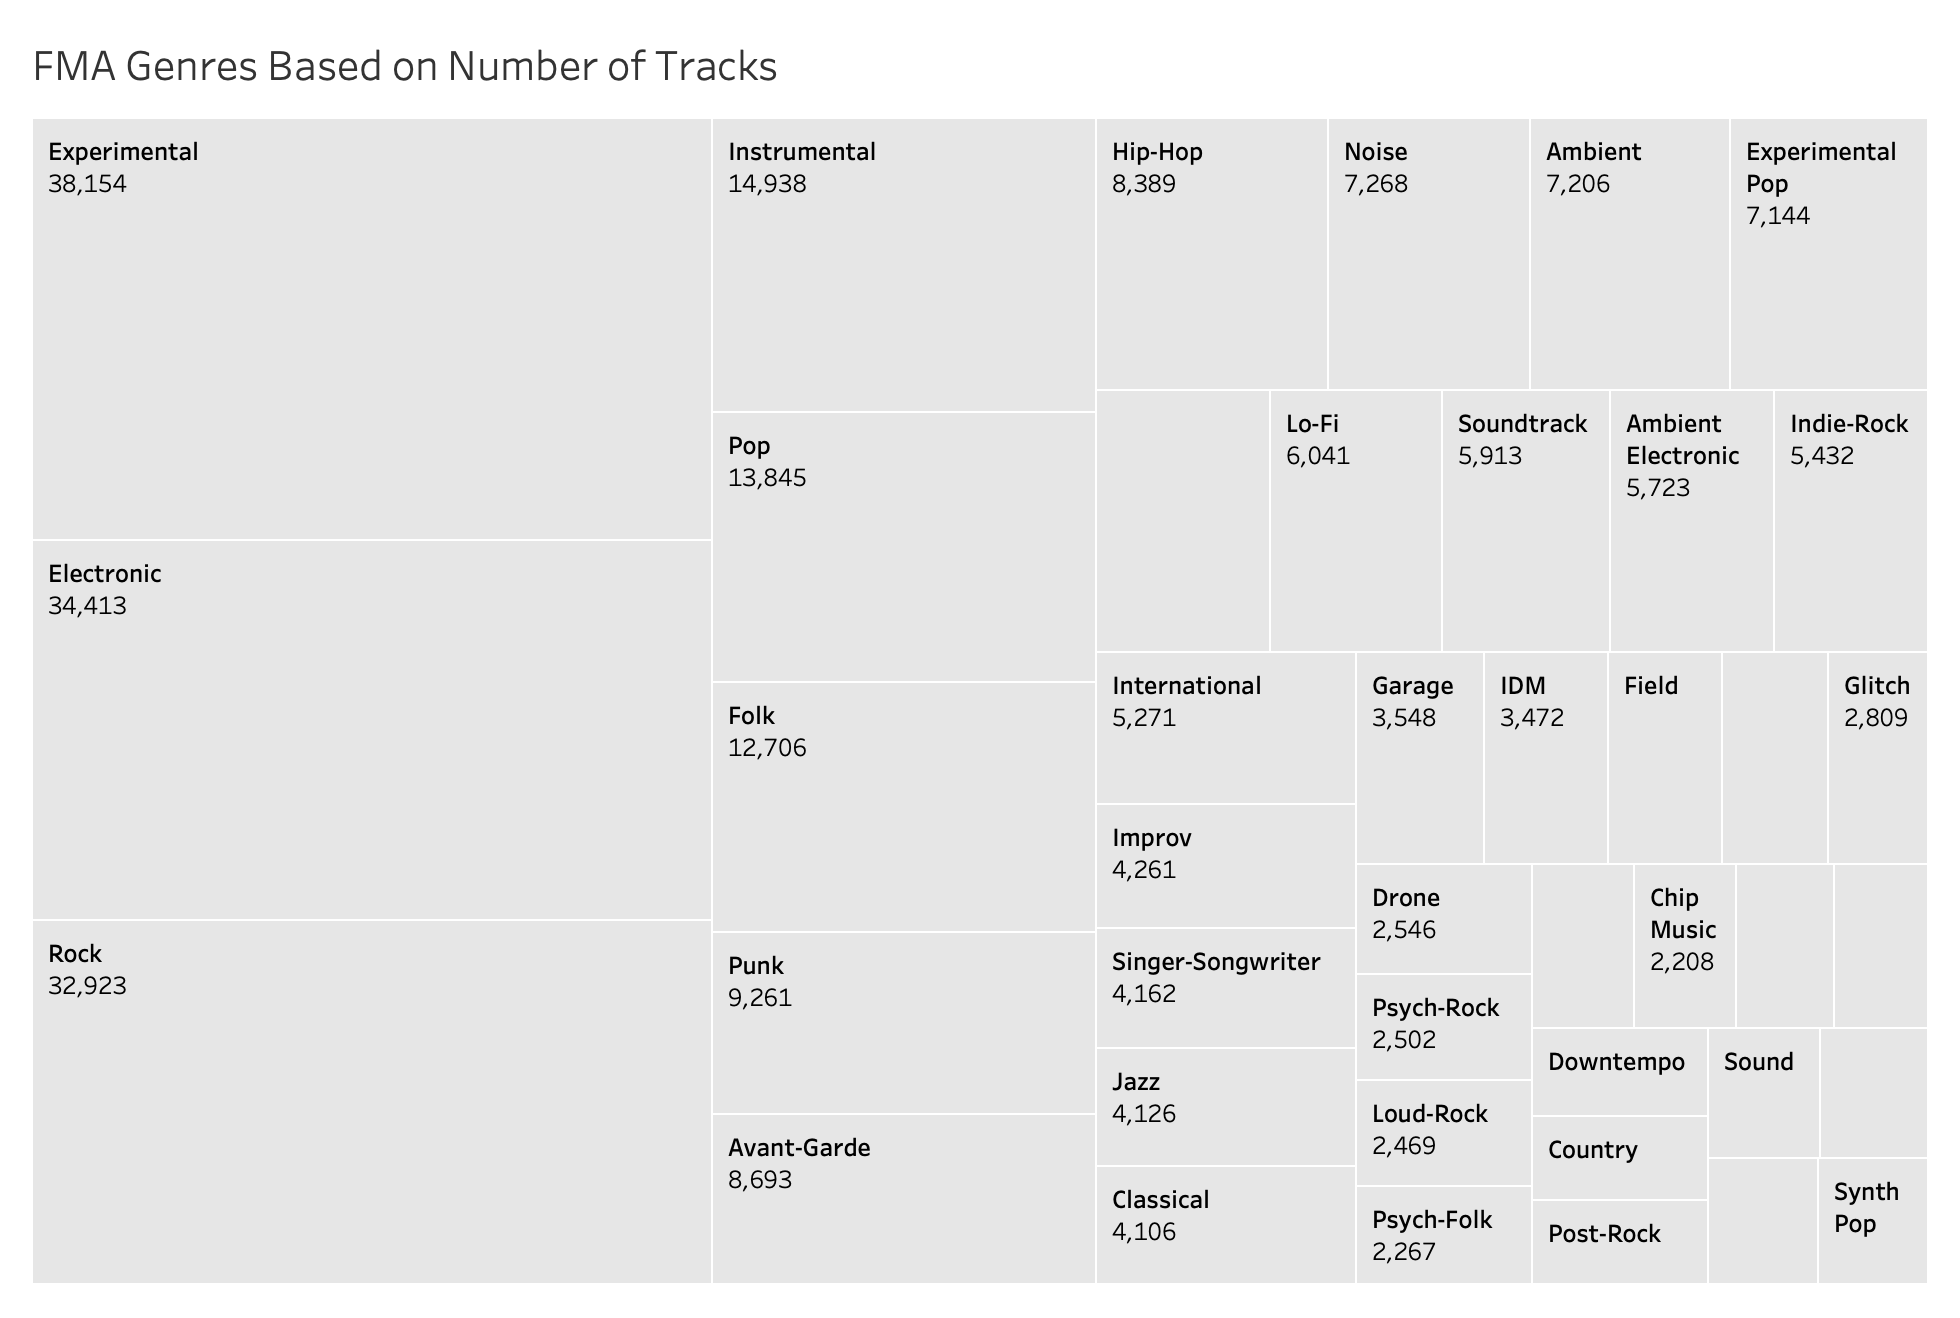

The dashboard page shown, as its layout file describes it:
{"tool":"tableau","page":{"name":"Dashboard 1","canvas":[980,659],"ordinal":0},"visuals":[{"type":"worksheet","title":"Sheet 1","mark":"Automatic","box":[8,8,964,643]}]}

Visuals, with their boxes in screenshot pixels (x1, y1, x2, y2), scaled from the page's 980x659 canvas onto the 1960x1318 screenshot:
"Sheet 1" worksheet: box=[16, 16, 1944, 1302]
